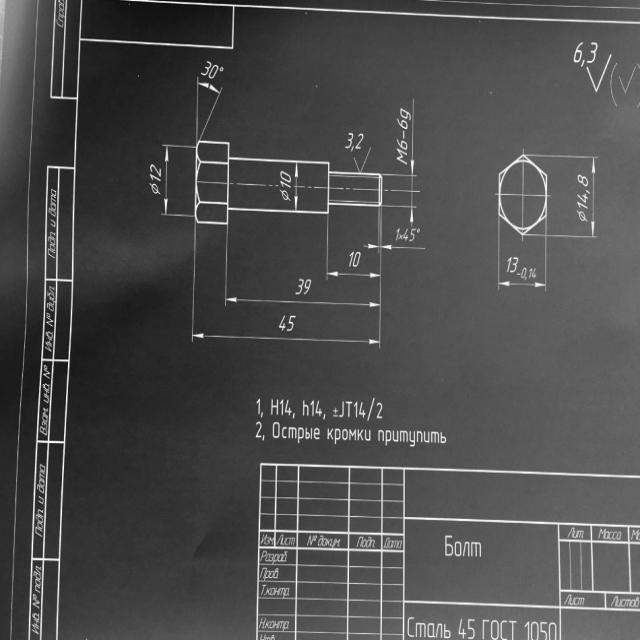marking_line: (193, 225, 383, 348), (224, 226, 383, 311), (548, 154, 599, 239), (326, 216, 383, 283), (384, 95, 420, 176), (496, 236, 547, 293), (160, 141, 194, 219), (364, 210, 424, 254), (385, 155, 421, 219), (195, 76, 225, 140), (293, 164, 300, 211)
numeric: (586, 42, 597, 65), (572, 42, 584, 63), (465, 618, 475, 640), (457, 617, 466, 640), (287, 314, 297, 332), (530, 620, 539, 640), (201, 60, 212, 76), (150, 162, 162, 176), (355, 131, 364, 149), (548, 622, 557, 640), (352, 252, 362, 268), (540, 620, 548, 640), (400, 108, 411, 122), (294, 278, 303, 295), (510, 256, 519, 273), (359, 400, 367, 419), (346, 133, 354, 151), (280, 171, 292, 183), (396, 139, 409, 150), (578, 174, 589, 187), (279, 314, 286, 334), (396, 117, 407, 129), (209, 65, 219, 78), (304, 279, 312, 295), (376, 401, 383, 419), (285, 397, 291, 417), (524, 620, 530, 640), (577, 200, 589, 210), (505, 257, 512, 273), (279, 399, 285, 416), (316, 400, 322, 417), (280, 180, 291, 189), (577, 194, 588, 203), (149, 174, 161, 182), (520, 267, 527, 280), (348, 250, 353, 268), (403, 228, 409, 241), (409, 229, 415, 241), (531, 267, 537, 279), (311, 400, 315, 417), (354, 401, 358, 418), (395, 228, 400, 240), (528, 267, 533, 279), (581, 59, 586, 68)
special_symbol: (585, 56, 611, 92), (353, 145, 376, 173), (618, 66, 636, 95), (609, 62, 617, 108), (147, 183, 161, 197), (279, 189, 291, 204), (576, 211, 589, 224), (637, 61, 640, 111), (333, 407, 339, 418), (219, 66, 225, 75), (416, 227, 421, 235)
